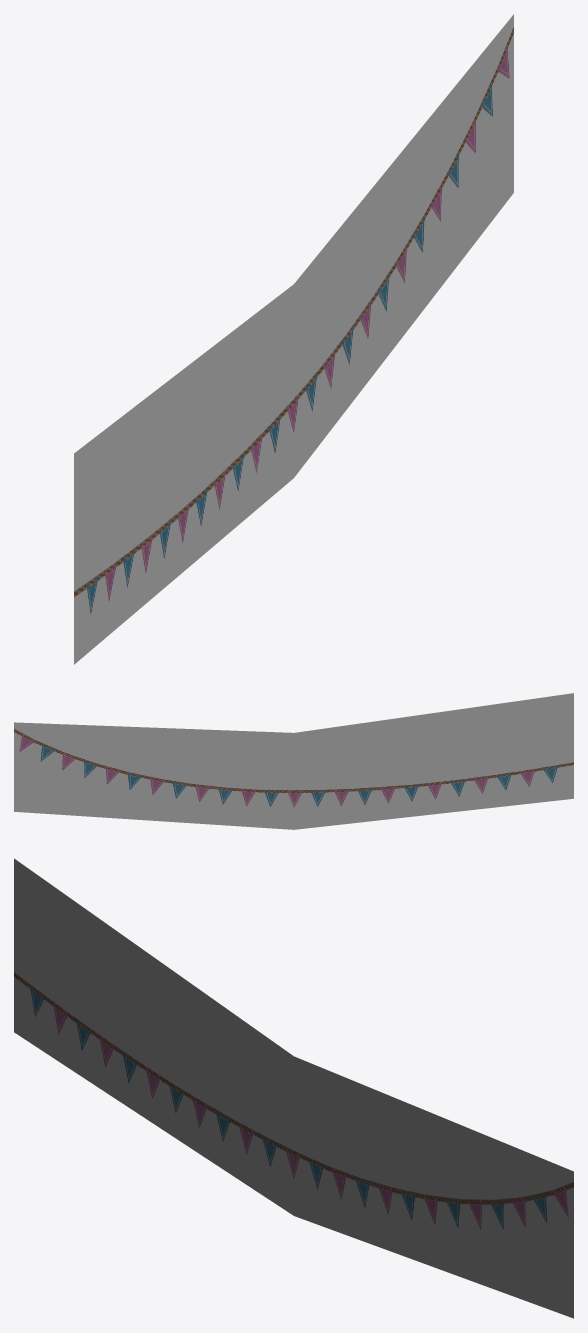
The picture shows the model from 3 angles, top to bottom: view 1: azimuth 30°, elevation 25°; view 2: azimuth 150°, elevation 25°; view 3: azimuth 270°, elevation 25°; orthographic projection. The views are drawn at different scales.
Parts seen in each view (by area): view 1: SM_garland002__1_; view 2: SM_garland002__1_; view 3: SM_garland002__1_.
Part boxes in pixels (left/top/right/bottom): SM_garland002__1_: left=74, top=14, right=513, bottom=664; SM_garland002__1_: left=14, top=693, right=573, bottom=829; SM_garland002__1_: left=14, top=858, right=573, bottom=1318.
Size of the model in its own units: 633 by 190 by 478.
